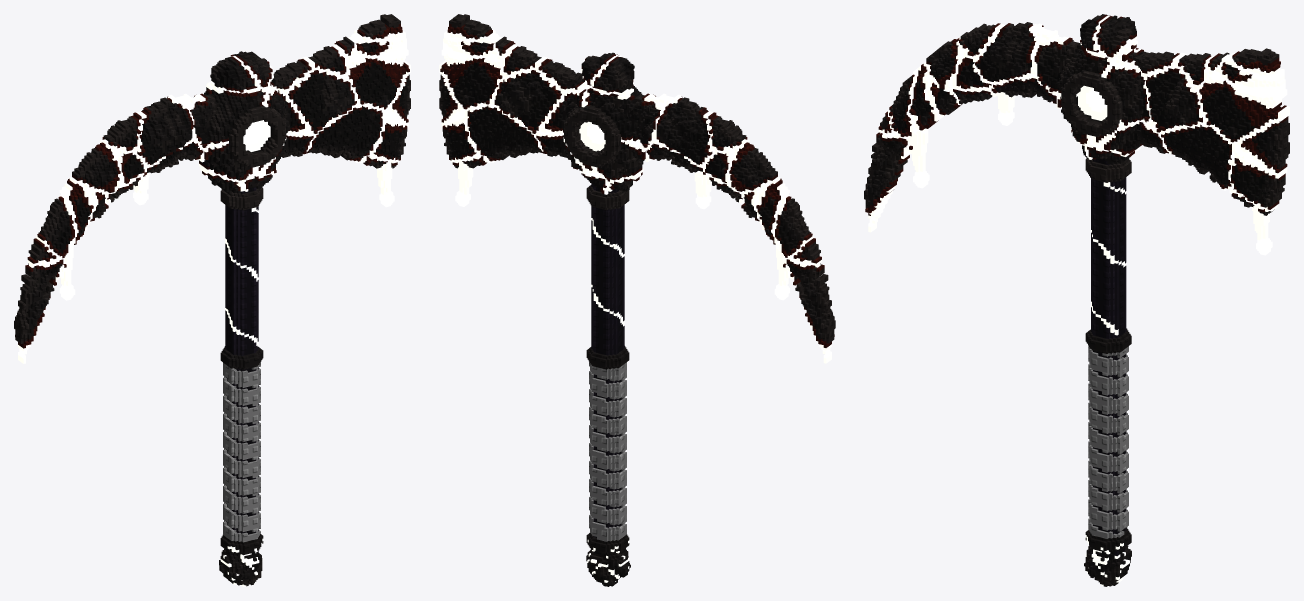
Rendered from PiocheVolcan.glb.
The picture shows the model from 3 angles, left to right: view 1: azimuth 30°, elevation 25°; view 2: azimuth 150°, elevation 25°; view 3: azimuth 330°, elevation 25°; orthographic projection. The views are drawn at different scales.
Parts seen in each view (by area): view 1: PiocheVolcan_Tete_Rochea, PiocheVolcan_Tete_Rocheb, PiocheVolcan_Tete_Lueur, PiocheVolcan_Manche_Cuir, PiocheVolcan_Manche_Obsidienne, PiocheVolcan_Manche_Roche, PiocheVolcan_Manche_Lueur; view 2: PiocheVolcan_Tete_Rochea, PiocheVolcan_Tete_Rocheb, PiocheVolcan_Tete_Lueur, PiocheVolcan_Manche_Cuir, PiocheVolcan_Manche_Obsidienne, PiocheVolcan_Manche_Roche, PiocheVolcan_Manche_Lueur; view 3: PiocheVolcan_Tete_Rocheb, PiocheVolcan_Tete_Rochea, PiocheVolcan_Tete_Lueur, PiocheVolcan_Manche_Cuir, PiocheVolcan_Manche_Obsidienne, PiocheVolcan_Manche_Roche, PiocheVolcan_Manche_Lueur.
Part boxes in pixels (<box>): PiocheVolcan_Tete_Rochea: <box>14,56,262,348</box>; PiocheVolcan_Tete_Rocheb: <box>230,14,410,188</box>; PiocheVolcan_Tete_Lueur: <box>18,30,410,363</box>; PiocheVolcan_Manche_Cuir: <box>223,362,260,542</box>; PiocheVolcan_Manche_Obsidienne: <box>225,187,258,551</box>; PiocheVolcan_Manche_Roche: <box>219,188,263,586</box>; PiocheVolcan_Manche_Lueur: <box>220,207,263,586</box>; PiocheVolcan_Tete_Rochea: <box>587,56,835,347</box>; PiocheVolcan_Tete_Rocheb: <box>439,14,618,190</box>; PiocheVolcan_Tete_Lueur: <box>439,29,831,363</box>; PiocheVolcan_Manche_Cuir: <box>589,361,626,541</box>; PiocheVolcan_Manche_Obsidienne: <box>591,183,624,554</box>; PiocheVolcan_Manche_Roche: <box>586,185,630,586</box>; PiocheVolcan_Manche_Lueur: <box>587,218,629,582</box>; PiocheVolcan_Tete_Rocheb: <box>1081,15,1289,215</box>; PiocheVolcan_Tete_Rochea: <box>864,14,1110,215</box>; PiocheVolcan_Tete_Lueur: <box>868,15,1289,255</box>; PiocheVolcan_Manche_Cuir: <box>1088,345,1128,538</box>; PiocheVolcan_Manche_Obsidienne: <box>1091,158,1126,556</box>; PiocheVolcan_Manche_Roche: <box>1084,158,1131,586</box>; PiocheVolcan_Manche_Lueur: <box>1085,182,1129,585</box>.
Size of the model in its own units: 6.32 by 8.24 by 1.04.
Materials: 4 (3 with a texture image).
